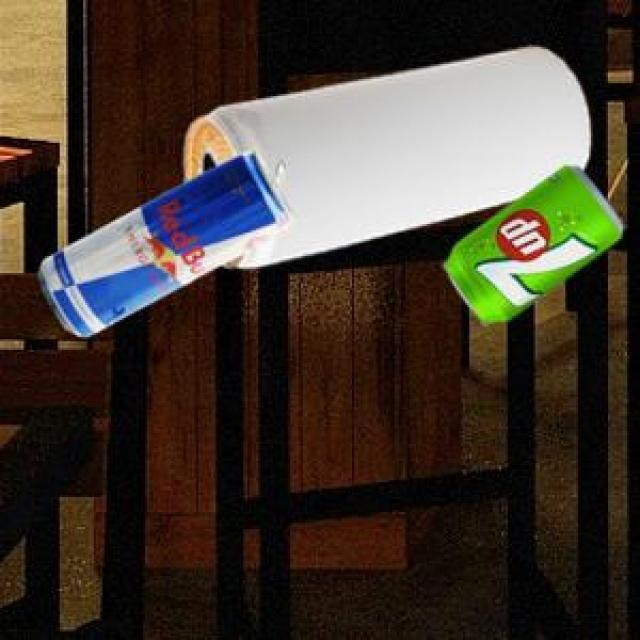Can: (182, 44, 588, 263), (35, 146, 291, 334), (441, 163, 618, 323)
